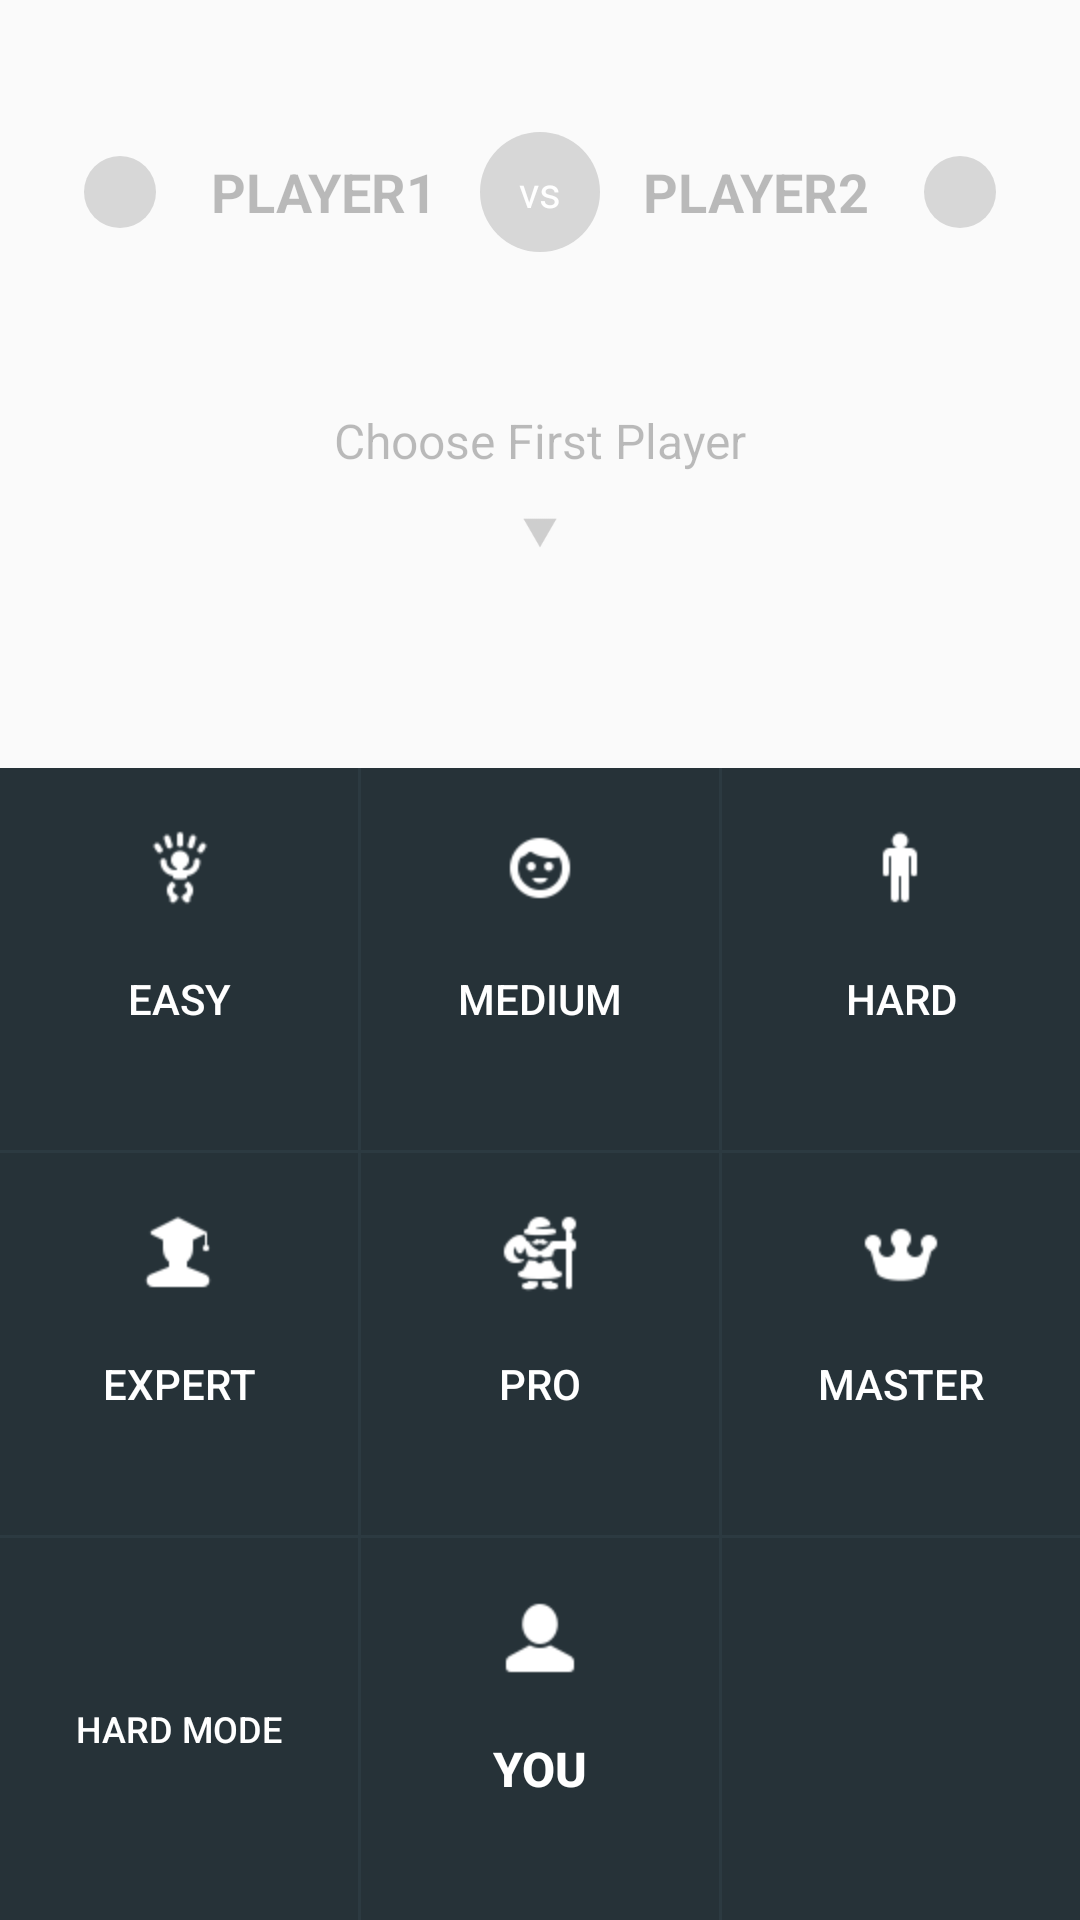

Icons on this 1080×1920 Android screen, each with the point to tap as [x,y]:
hint indicator down: [540,532]
